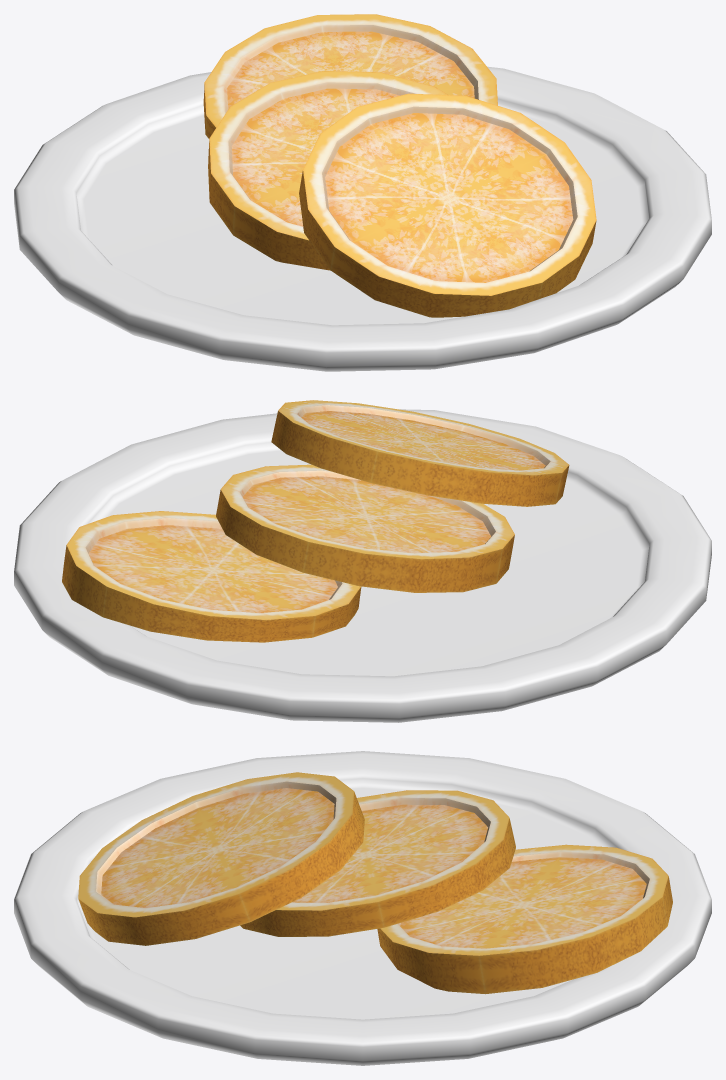
Rendered from plato de limones.fbx.
The picture shows the model from 3 angles, top to bottom: view 1: azimuth 30°, elevation 25°; view 2: azimuth 150°, elevation 25°; view 3: azimuth 270°, elevation 25°; orthographic projection.
Parts seen in each view (by area): view 1: Plate, full_lemon_fill; view 2: Plate, full_lemon_fill; view 3: Plate, full_lemon_fill.
Boxes of the visible parts, x1,y1,x2,y2 form: Plate: [14, 66, 711, 371]; full_lemon_fill: [203, 14, 596, 317]; Plate: [14, 409, 711, 722]; full_lemon_fill: [62, 400, 569, 642]; Plate: [14, 751, 711, 1065]; full_lemon_fill: [78, 772, 672, 994].
Size of the model in its own units: 288 by 62.06 by 288.
